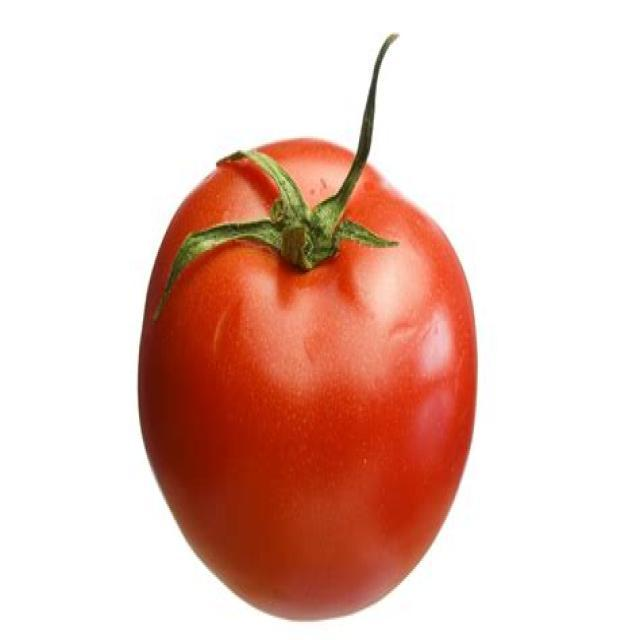Tomato: (136, 78, 480, 625)
